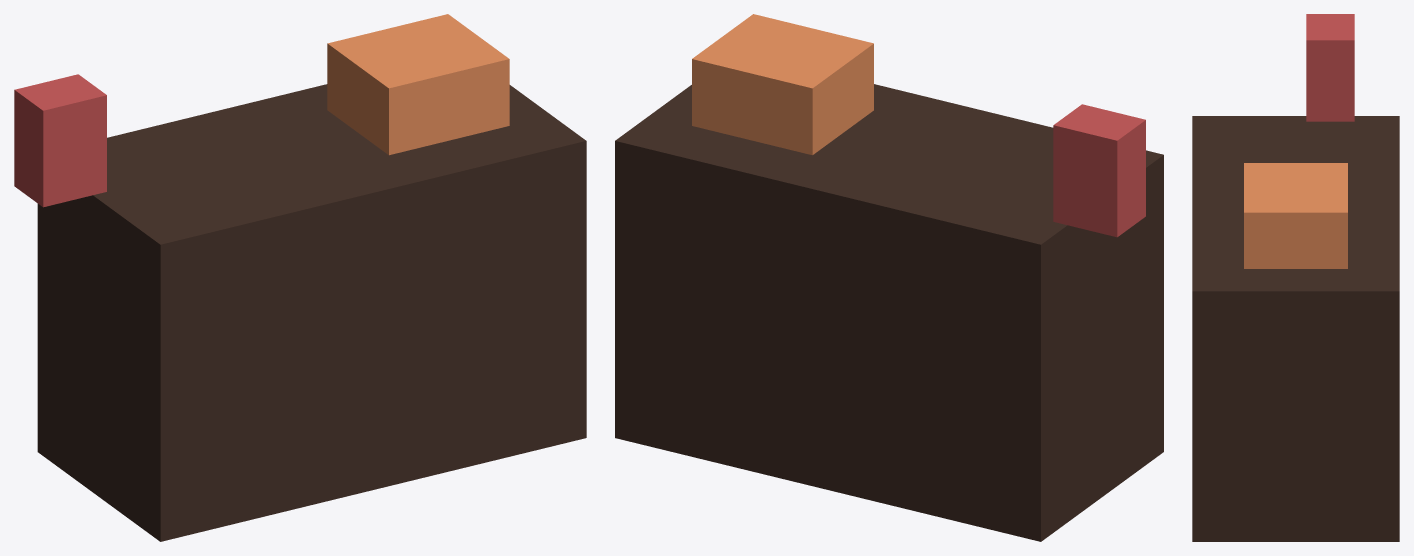
Rendered from mesa_acervo.glb.
The picture shows the model from 3 angles, left to right: view 1: azimuth 30°, elevation 25°; view 2: azimuth 150°, elevation 25°; view 3: azimuth 270°, elevation 25°; orthographic projection. The views are drawn at different scales.
Visible parts, largest first — view 1: Malha_0; view 2: Malha_0; view 3: Malha_0.
Part boxes in pixels (<box>): Malha_0: <box>14,14,586,541</box>; Malha_0: <box>615,14,1163,541</box>; Malha_0: <box>1192,14,1399,541</box>.
Bounding box in the file's own units: 1.34 × 1.06 × 0.6.
